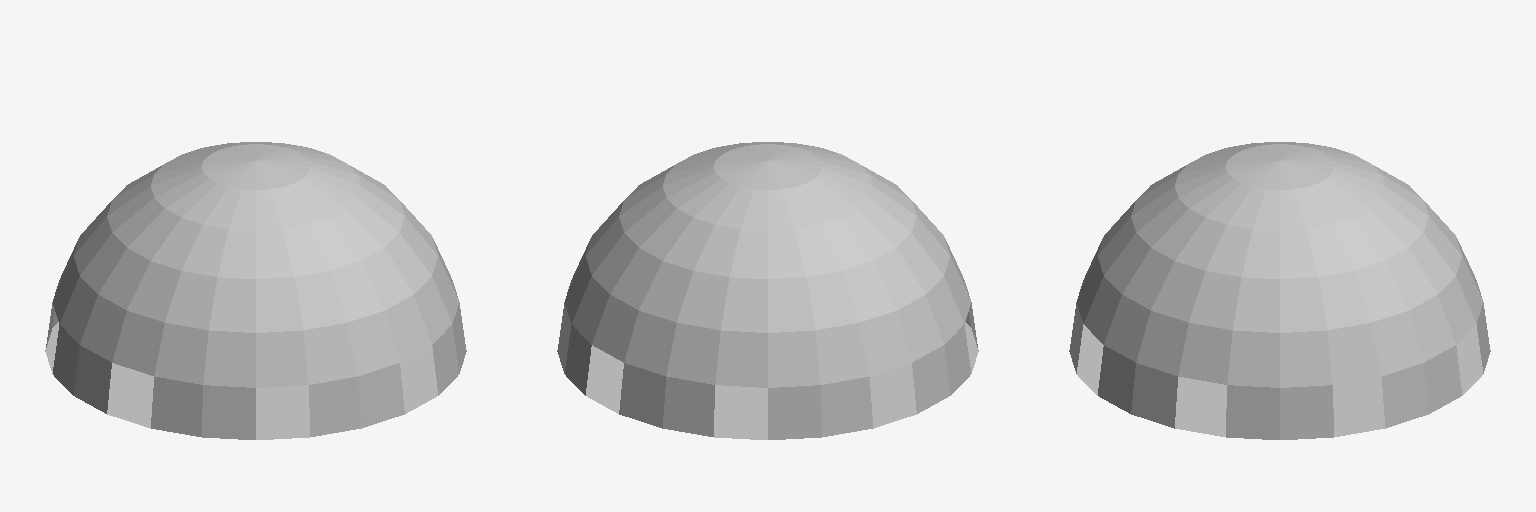
Rendered from dome01.obj.
The picture shows the model from 3 angles: view 1: azimuth 30°, elevation 25°; view 2: azimuth 150°, elevation 25°; view 3: azimuth 270°, elevation 25°; orthographic projection.
Visible parts, largest first — view 1: group_6, group_6.001; view 2: group_6, group_6.001; view 3: group_6, group_6.001.
Part boxes in pixels (left/top/right/bottom): group_6: left=45, top=142, right=466, bottom=439; group_6.001: left=47, top=167, right=465, bottom=435; group_6: left=557, top=142, right=978, bottom=439; group_6.001: left=559, top=167, right=976, bottom=433; group_6: left=1069, top=142, right=1490, bottom=439; group_6.001: left=1071, top=167, right=1489, bottom=435.
Bounding box in the file's own units: 110 × 55.1 × 110.